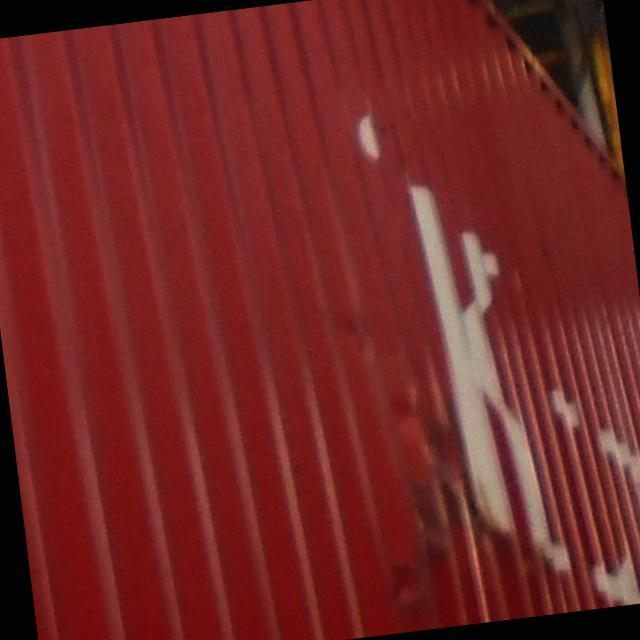rust: (350, 349, 520, 621)
